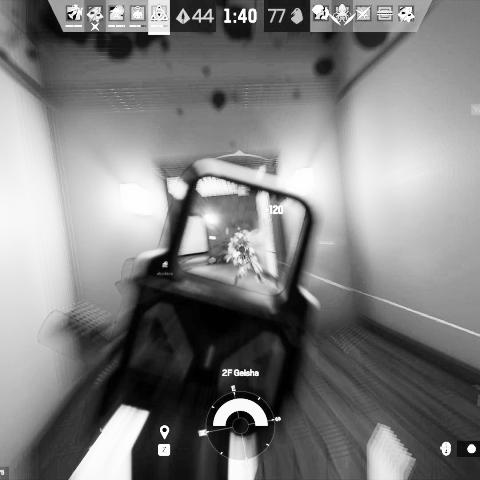Character: (230, 235, 266, 287)
Friend_label: (155, 260, 175, 276)
Head: (236, 236, 246, 246)
